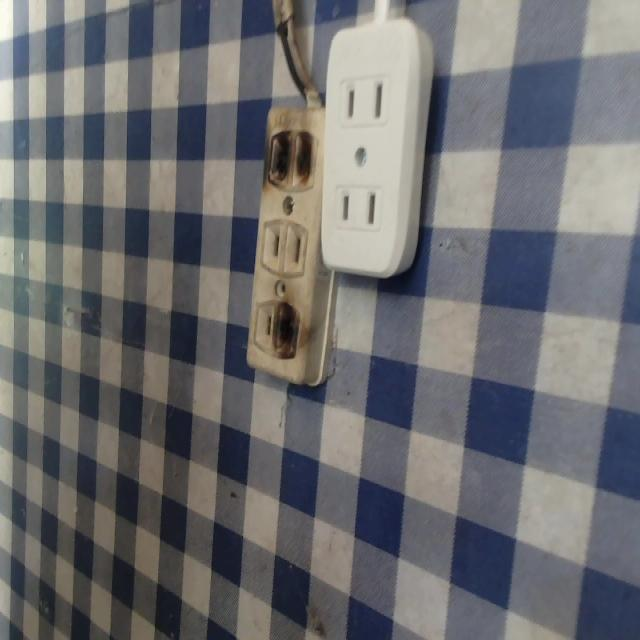-: (266, 125, 319, 195), (271, 297, 302, 364)
